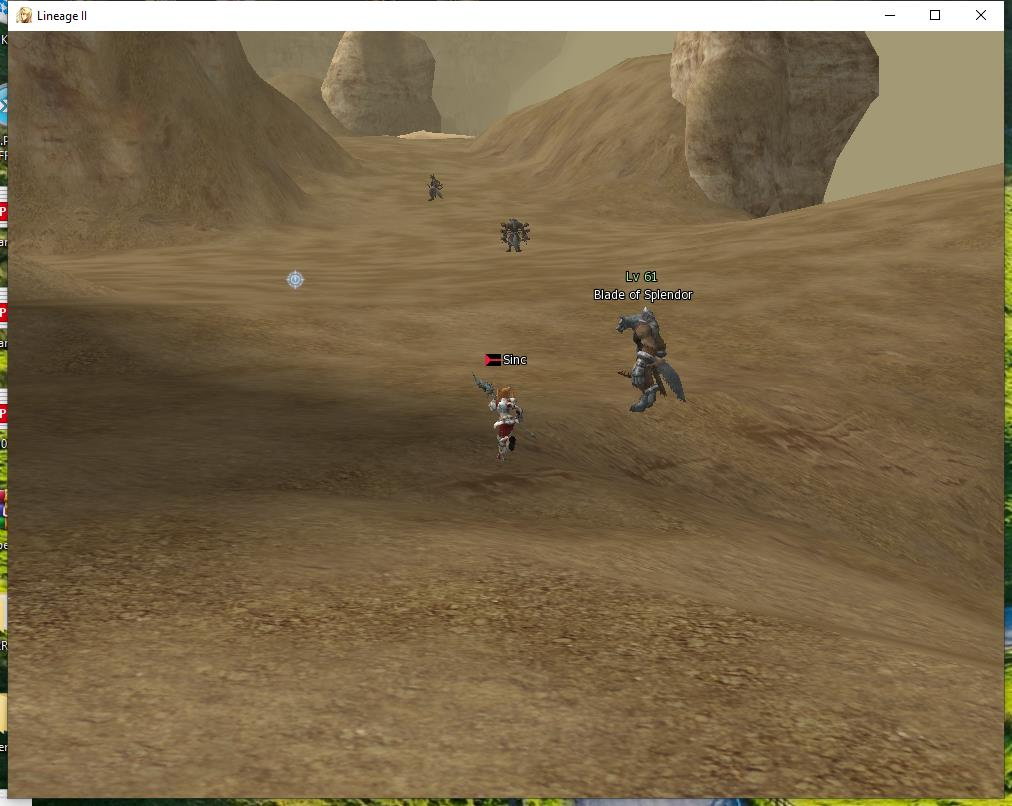monster: (591, 260, 712, 416), (496, 208, 534, 251), (419, 171, 452, 215)
